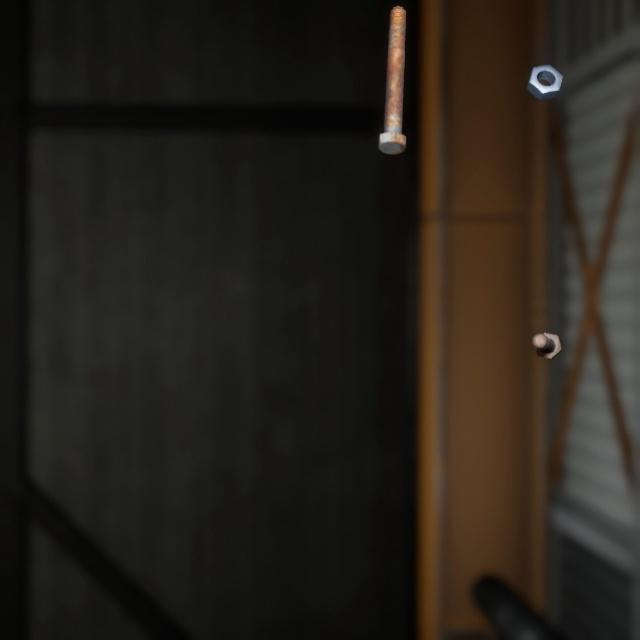bolt: (373, 0, 410, 148), (527, 310, 566, 346)
nut: (522, 49, 567, 94)
